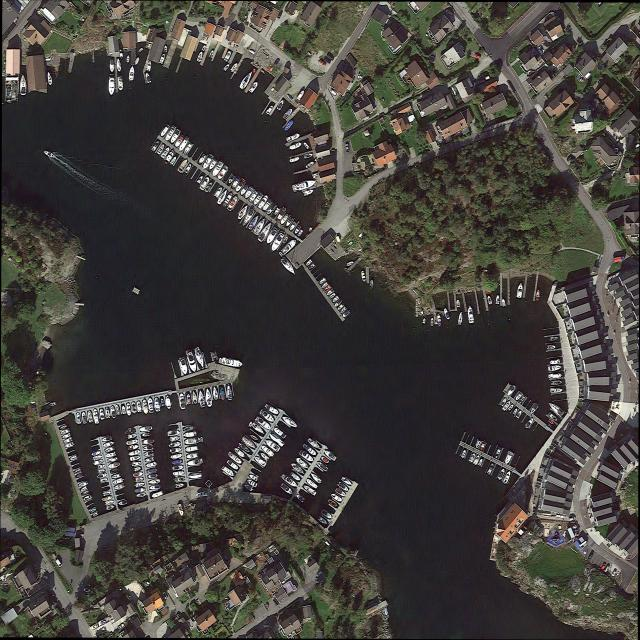large-vehicle: (55, 559, 63, 568)
ship: (277, 236, 298, 258), (279, 255, 299, 278), (269, 229, 287, 253), (291, 178, 317, 194), (256, 220, 273, 244), (251, 216, 268, 238), (237, 69, 254, 91), (240, 207, 256, 229), (192, 345, 206, 369), (547, 401, 565, 418), (246, 213, 262, 232), (264, 226, 279, 246), (185, 348, 197, 372), (221, 357, 244, 369), (269, 432, 286, 448), (281, 414, 298, 430), (235, 203, 250, 221), (280, 473, 298, 488), (215, 188, 229, 207), (225, 194, 239, 213), (211, 159, 225, 178), (264, 438, 281, 453), (254, 415, 271, 430), (177, 135, 191, 153), (299, 448, 315, 463), (302, 483, 318, 498), (306, 437, 322, 452), (198, 175, 212, 192), (216, 164, 230, 181), (221, 191, 234, 209), (290, 461, 305, 476), (308, 471, 324, 485), (176, 158, 190, 174), (259, 409, 275, 423), (164, 125, 177, 142), (169, 128, 182, 145), (202, 153, 215, 170), (323, 449, 338, 463), (242, 436, 257, 450), (19, 75, 29, 96), (256, 194, 269, 210), (234, 177, 247, 193), (173, 133, 186, 149), (107, 74, 116, 97), (285, 131, 302, 143), (126, 66, 138, 83), (163, 149, 175, 166), (316, 460, 330, 474), (295, 456, 309, 470), (261, 444, 275, 458), (251, 422, 265, 436), (302, 443, 317, 456), (265, 201, 278, 216), (182, 140, 195, 155), (272, 426, 287, 439), (227, 451, 242, 464), (248, 188, 260, 204), (261, 197, 273, 213), (204, 387, 213, 408), (305, 477, 319, 490), (280, 482, 293, 496), (221, 465, 235, 478), (252, 191, 264, 206), (243, 185, 255, 200), (276, 206, 288, 221), (279, 211, 291, 226), (159, 145, 171, 160), (230, 175, 242, 190), (179, 357, 189, 375), (264, 404, 279, 416), (197, 390, 206, 409), (466, 305, 475, 324), (184, 436, 203, 445), (319, 508, 333, 520), (248, 80, 260, 94), (282, 106, 294, 120), (283, 119, 295, 133), (155, 143, 167, 157), (202, 180, 214, 194), (182, 162, 194, 176), (207, 158, 219, 172), (288, 141, 303, 152), (239, 182, 250, 197), (197, 151, 208, 166), (504, 449, 514, 465), (337, 481, 350, 493), (334, 487, 347, 499), (254, 455, 267, 467), (226, 459, 239, 471), (160, 123, 171, 137), (288, 218, 299, 232), (226, 172, 237, 186), (186, 458, 203, 467), (327, 497, 339, 509), (238, 441, 250, 453), (234, 447, 246, 459), (340, 476, 353, 487), (330, 492, 343, 503), (302, 188, 315, 199), (157, 52, 167, 66), (144, 59, 154, 73), (213, 185, 223, 199), (117, 75, 125, 92), (178, 393, 186, 410), (497, 467, 506, 482), (316, 515, 328, 526), (546, 411, 558, 422), (264, 104, 275, 116), (293, 223, 303, 236), (223, 50, 233, 63), (144, 72, 154, 85), (150, 140, 160, 153), (285, 215, 295, 228), (547, 372, 563, 380), (486, 462, 495, 476), (304, 159, 315, 170), (229, 62, 239, 74), (46, 71, 54, 86), (195, 174, 205, 186), (503, 470, 511, 485), (108, 460, 120, 470), (246, 478, 258, 488), (289, 471, 301, 481), (183, 430, 198, 438), (225, 384, 232, 401), (93, 408, 100, 425), (530, 401, 539, 414), (507, 383, 516, 396), (276, 98, 285, 111), (112, 476, 125, 485), (151, 490, 164, 499), (516, 283, 523, 299), (196, 50, 204, 64), (147, 397, 154, 413), (185, 445, 199, 453), (285, 92, 295, 103), (303, 151, 314, 161), (260, 451, 270, 462), (525, 417, 534, 429), (502, 400, 511, 412), (296, 89, 305, 101), (288, 155, 300, 164), (103, 440, 115, 449), (114, 482, 126, 491), (548, 365, 563, 372), (108, 58, 115, 73), (212, 386, 219, 401), (165, 395, 172, 410), (188, 472, 203, 479), (472, 454, 480, 467), (186, 452, 199, 460), (167, 429, 180, 437), (333, 298, 343, 308), (12, 81, 17, 101), (43, 149, 53, 159), (343, 266, 352, 277), (518, 394, 527, 405), (273, 205, 282, 216), (106, 450, 117, 459), (248, 473, 259, 482), (191, 390, 198, 404), (219, 387, 226, 401), (139, 425, 153, 432), (128, 449, 140, 457), (92, 458, 104, 466), (104, 445, 116, 453), (107, 456, 119, 464), (210, 350, 218, 362), (126, 438, 138, 446), (494, 447, 502, 459), (443, 308, 451, 320), (360, 270, 367, 283), (177, 503, 184, 516), (183, 425, 196, 432), (168, 441, 181, 448), (320, 456, 330, 465), (318, 276, 327, 286), (499, 397, 508, 407), (302, 141, 311, 151), (83, 493, 93, 502), (62, 431, 72, 440), (65, 440, 75, 449), (154, 397, 160, 412), (110, 405, 116, 420), (142, 399, 148, 414), (457, 311, 463, 326), (345, 260, 356, 268), (515, 409, 523, 420), (515, 391, 523, 402), (169, 155, 177, 166), (133, 470, 144, 478), (78, 480, 89, 488), (60, 427, 71, 435), (63, 436, 74, 444), (111, 472, 122, 480), (143, 444, 154, 452), (196, 490, 207, 498), (116, 58, 122, 72), (101, 495, 113, 502), (87, 409, 93, 423), (131, 401, 137, 415), (136, 400, 142, 414), (127, 444, 139, 451), (468, 452, 475, 464), (172, 464, 184, 471), (142, 438, 154, 445), (170, 447, 182, 454), (339, 306, 348, 315), (342, 309, 351, 318), (296, 494, 305, 503), (336, 302, 345, 311), (323, 284, 332, 293), (326, 288, 335, 297), (314, 155, 324, 163), (550, 380, 563, 386), (550, 387, 563, 393), (99, 408, 105, 421), (76, 412, 82, 425), (81, 411, 87, 424), (105, 407, 111, 420), (436, 314, 442, 327), (92, 454, 103, 461), (101, 436, 112, 443), (134, 481, 145, 488), (134, 487, 145, 494), (146, 461, 157, 468), (144, 450, 155, 457), (125, 428, 136, 435), (171, 458, 182, 465), (332, 295, 340, 304), (308, 262, 316, 271), (305, 258, 313, 267), (549, 359, 561, 365), (223, 63, 231, 72), (130, 461, 142, 467), (134, 475, 143, 483), (110, 467, 119, 475), (115, 404, 121, 416), (149, 484, 161, 490), (148, 479, 160, 485), (173, 470, 185, 476), (174, 476, 186, 482), (170, 453, 182, 459), (282, 235, 289, 245), (6, 85, 11, 99), (208, 49, 215, 59), (118, 499, 128, 506), (97, 472, 107, 479), (91, 449, 101, 456), (126, 402, 131, 416), (244, 484, 254, 491), (480, 440, 486, 451), (126, 433, 137, 439), (329, 292, 337, 300), (321, 281, 329, 289), (137, 46, 145, 54), (74, 467, 82, 475), (250, 434, 258, 442), (507, 403, 514, 412), (134, 56, 141, 65), (105, 499, 114, 506), (103, 490, 112, 497), (125, 54, 131, 64), (130, 455, 140, 461), (460, 449, 466, 459), (148, 473, 158, 479), (147, 468, 157, 474), (145, 456, 155, 462), (170, 436, 180, 442), (329, 89, 337, 96), (89, 507, 97, 514), (97, 463, 105, 470), (80, 485, 88, 492), (369, 279, 374, 290), (186, 394, 191, 405), (121, 405, 126, 416), (549, 336, 558, 342), (106, 505, 115, 511), (99, 477, 108, 483), (97, 468, 106, 474), (59, 424, 68, 430), (475, 440, 481, 449), (175, 482, 184, 488), (136, 492, 146, 497), (298, 229, 304, 237), (536, 289, 540, 301), (49, 401, 57, 407), (70, 455, 78, 461), (547, 345, 556, 350), (487, 296, 492, 305), (160, 398, 165, 407), (478, 458, 483, 467), (546, 422, 552, 429), (248, 49, 255, 55), (92, 511, 99, 517), (82, 490, 89, 496), (134, 466, 141, 472), (119, 49, 123, 59), (142, 432, 150, 437), (548, 418, 554, 424), (502, 298, 506, 307), (456, 299, 460, 308), (513, 408, 518, 415), (569, 516, 576, 521), (163, 46, 168, 53), (202, 44, 207, 51), (76, 473, 83, 478), (384, 607, 388, 615), (420, 308, 424, 316), (417, 298, 421, 305), (496, 295, 499, 304), (348, 241, 353, 246), (269, 66, 273, 72), (312, 173, 318, 177), (213, 370, 219, 374), (422, 318, 426, 324), (309, 227, 313, 232), (218, 358, 222, 363), (165, 20, 169, 25), (486, 291, 492, 294), (249, 421, 252, 427), (431, 318, 433, 326), (148, 44, 151, 49), (7, 100, 11, 103)
small-vehicle: (613, 256, 625, 263), (162, 591, 169, 600), (117, 623, 125, 630), (319, 59, 326, 66), (324, 56, 331, 63), (327, 54, 334, 61), (316, 571, 323, 578), (604, 565, 610, 573), (566, 155, 572, 163), (91, 624, 98, 630), (274, 59, 280, 66), (612, 569, 617, 577), (601, 562, 606, 570), (274, 598, 279, 606), (345, 144, 349, 153), (474, 54, 481, 59), (588, 553, 593, 560), (273, 621, 278, 628), (277, 12, 282, 19), (478, 80, 486, 84), (83, 588, 91, 592), (263, 624, 269, 628), (474, 82, 476, 87)
